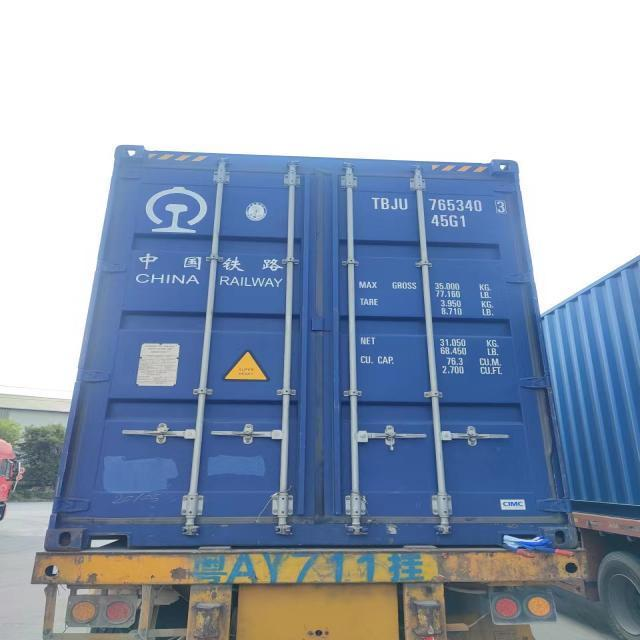ISO: (427, 212, 469, 234)
container_number: (372, 197, 513, 214)
